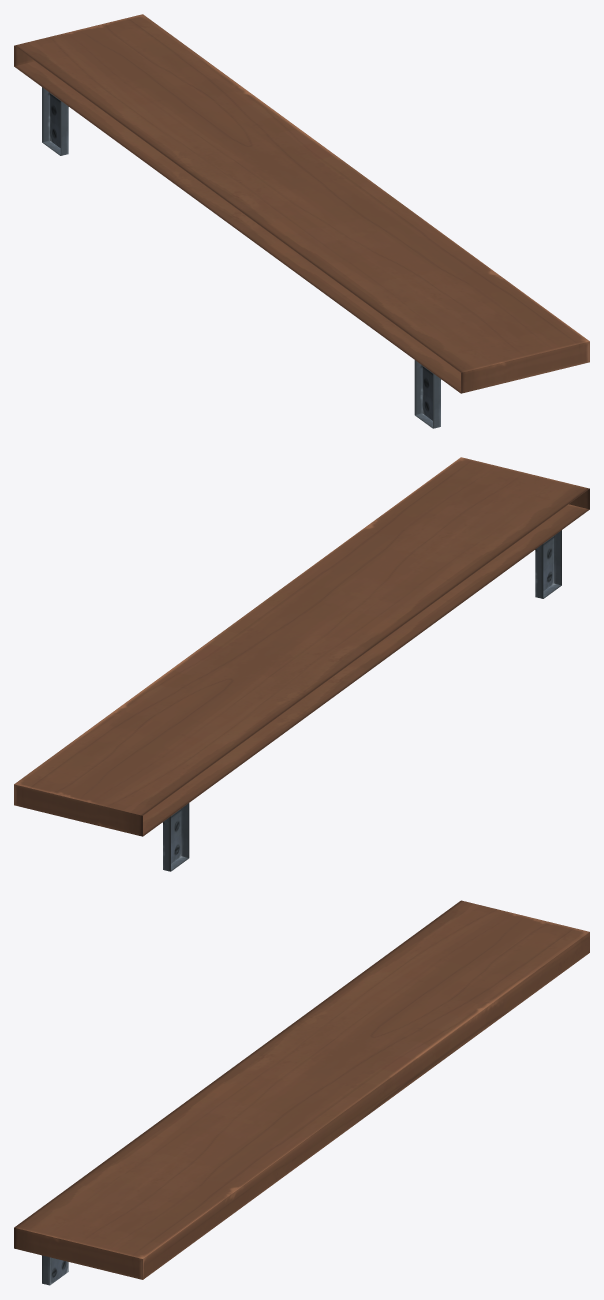
Rendered from store_shelf.fbx.
3 views of the same model, one above another, from view 1: azimuth 30°, elevation 25°; view 2: azimuth 150°, elevation 25°; view 3: azimuth 330°, elevation 25° (orthographic).
Visible parts, largest first — view 1: store_shelf; view 2: store_shelf; view 3: store_shelf.
Part boxes in pixels (box(x1,y1,x2,y2)): store_shelf: box(14, 14, 589, 428); store_shelf: box(14, 457, 589, 871); store_shelf: box(14, 900, 589, 1285).
Bounding box in the file's own units: 32.3 × 18.3 × 194.
